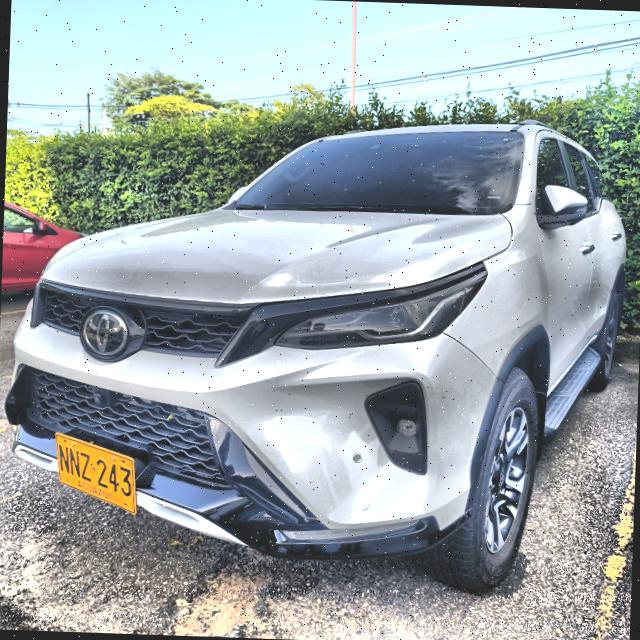plate: (55, 433, 135, 513)
